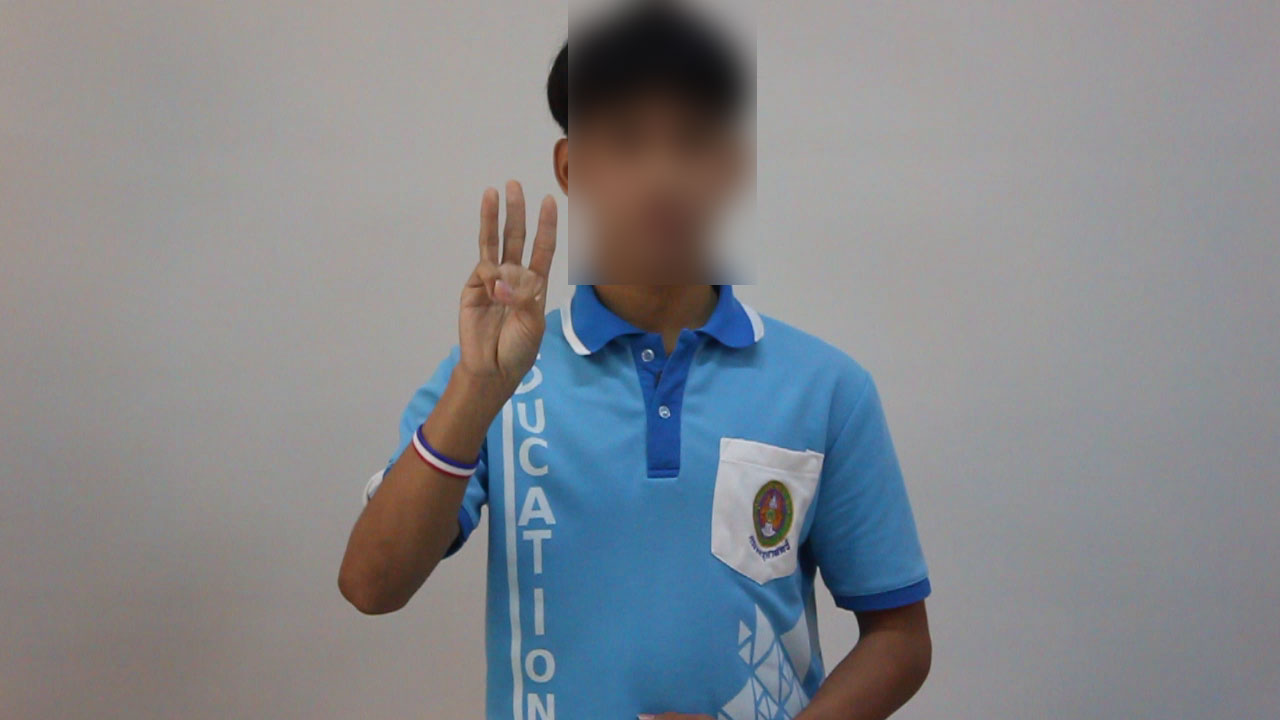wor: (451, 176, 564, 391)
